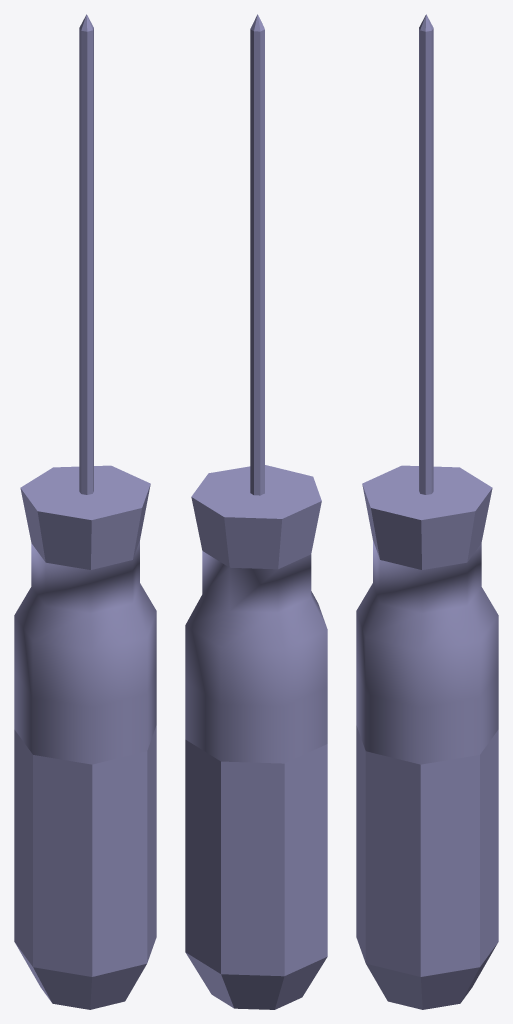
File: screwdriver.fbx
3 renders of one model, left to right at view 1: azimuth 30°, elevation 25°; view 2: azimuth 150°, elevation 25°; view 3: azimuth 330°, elevation 25°, orthographic.
Visible parts, largest first — view 1: Cylinder001; view 2: Cylinder001; view 3: Cylinder001.
Part boxes in pixels (x1,y1,x2,y2): Cylinder001: [14, 14, 156, 1009]; Cylinder001: [185, 14, 327, 1009]; Cylinder001: [356, 14, 498, 1009].
Size of the model in its own units: 4.36 by 32.91 by 4.25.
